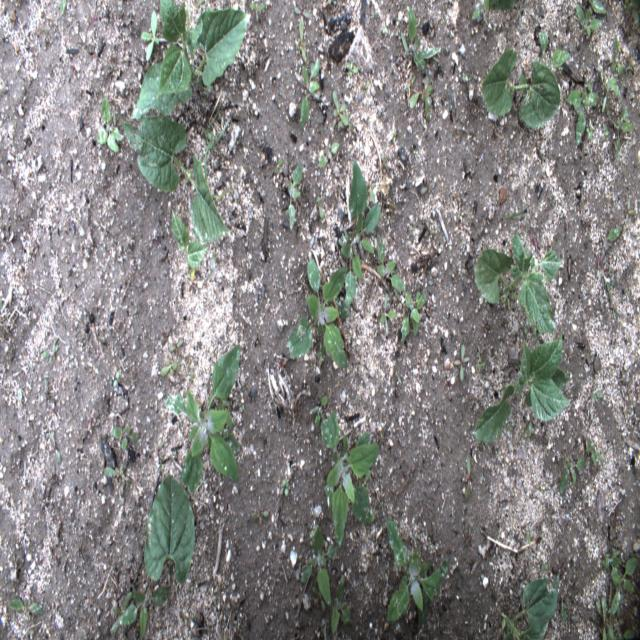crop: (130, 0, 254, 121), (122, 118, 231, 242), (464, 329, 570, 447), (166, 344, 243, 493), (469, 234, 564, 331), (318, 409, 382, 548), (282, 257, 351, 374), (479, 48, 564, 138), (144, 468, 201, 593), (383, 520, 448, 624), (341, 158, 384, 305), (500, 575, 561, 635), (170, 210, 208, 272)
weed: (308, 528, 357, 628), (398, 4, 448, 78), (555, 439, 607, 496), (560, 80, 598, 152), (116, 589, 174, 633), (297, 57, 325, 136), (94, 100, 132, 157), (396, 286, 432, 346), (374, 237, 406, 296), (285, 166, 310, 240), (606, 545, 636, 598), (576, 0, 611, 42), (469, 0, 513, 32), (158, 332, 186, 380), (405, 78, 436, 120), (538, 24, 570, 64), (294, 14, 312, 81), (595, 594, 621, 638), (452, 337, 475, 385), (139, 9, 160, 60), (101, 465, 129, 502), (465, 453, 487, 497), (332, 84, 351, 128), (114, 427, 141, 457), (8, 591, 43, 613), (613, 107, 630, 149), (599, 78, 620, 110), (379, 302, 396, 336), (44, 433, 62, 465), (42, 335, 62, 363), (321, 138, 342, 164), (421, 168, 439, 195), (606, 224, 626, 248), (252, 501, 270, 526), (612, 46, 629, 72), (110, 368, 130, 388), (316, 192, 326, 229), (421, 224, 439, 244), (346, 60, 357, 82), (623, 204, 635, 220), (282, 476, 290, 496), (591, 390, 602, 404)
